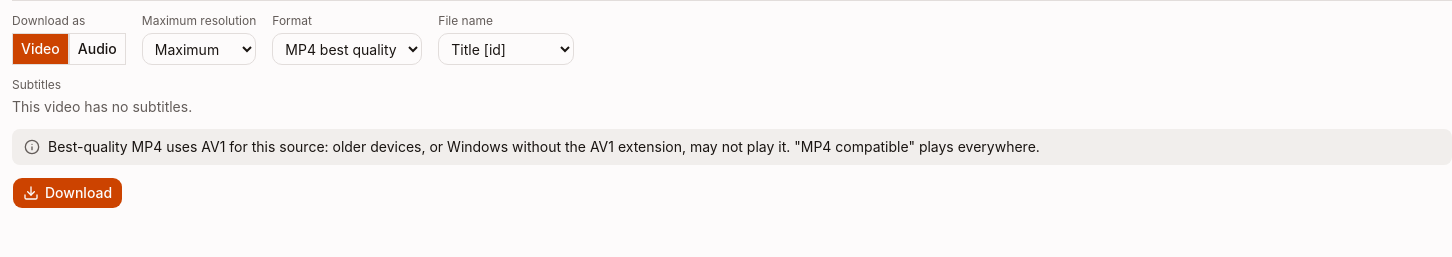
Test case: the file name › goes back to the old name, and says why, when saving fails
Select "Channel - Title" in the dropdown labelled "File name" at (506, 49), box [438,33,574,65]
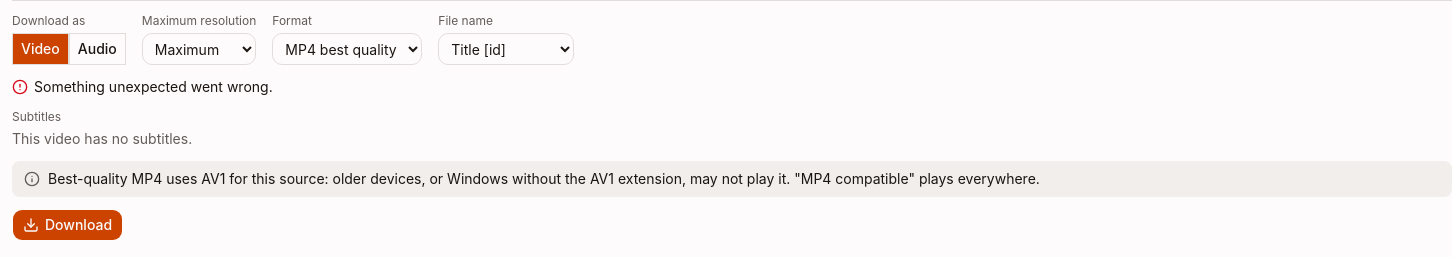
Check: the message shows "unexpected", box [34,78,273,95]
Select "Title" in the dropdown labelled "File name" at (506, 49), box [438,33,574,65]
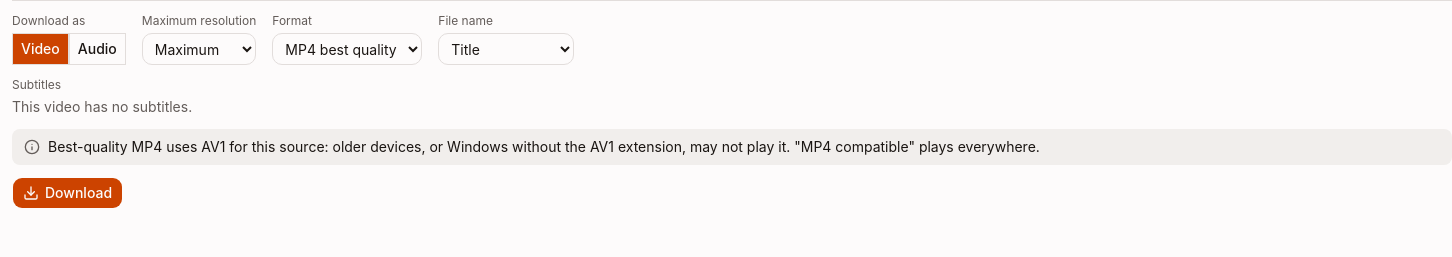
Check: the message "Something unexpected went wrong." is gone
